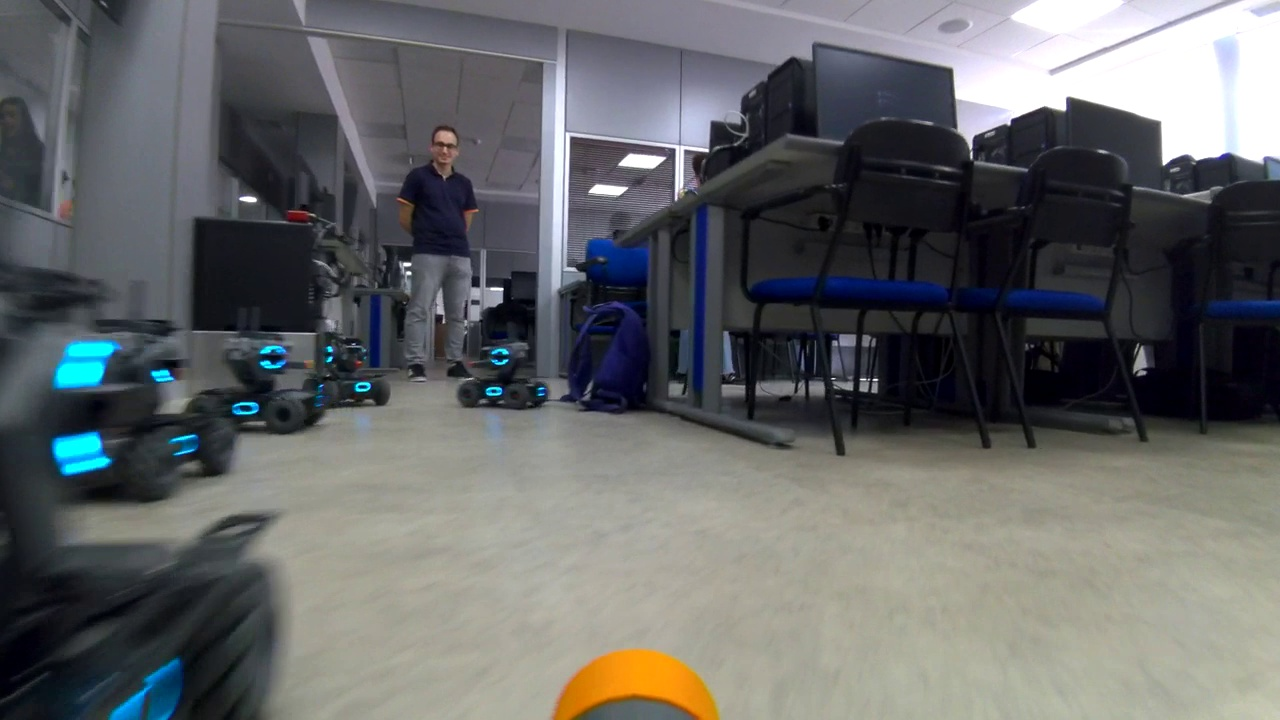robot: (1, 310, 294, 720), (189, 297, 323, 443), (447, 323, 565, 418), (311, 327, 396, 407)
